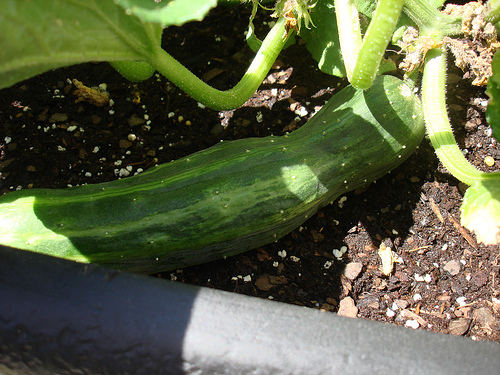cucumber: (0, 69, 428, 278)
